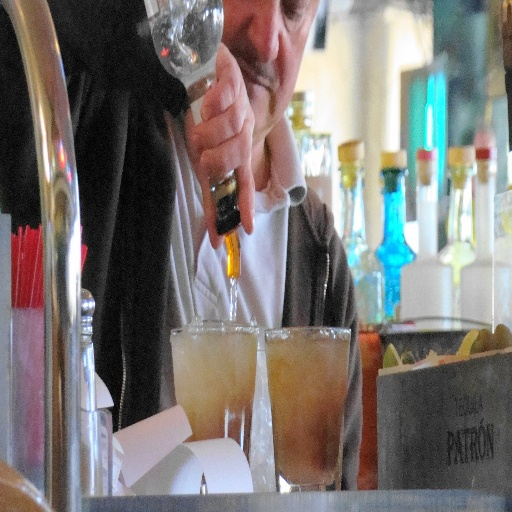hand: (178, 10, 259, 257)
